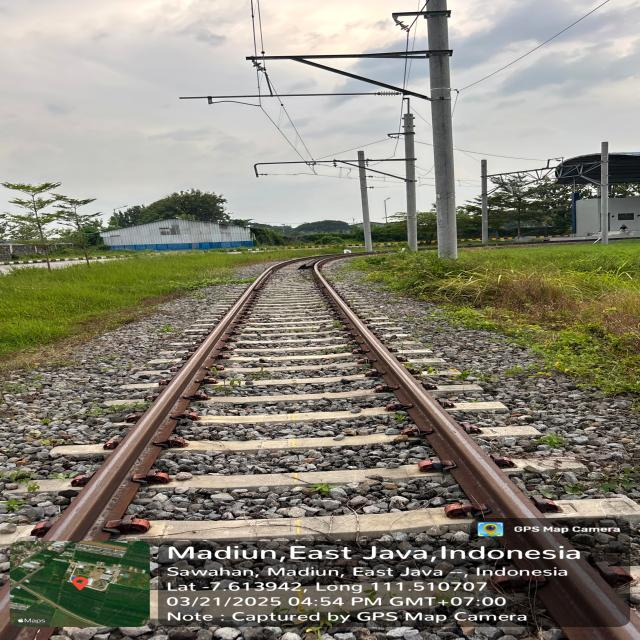rail-detection: (46, 268, 271, 541), (314, 262, 542, 520), (541, 561, 640, 640)
